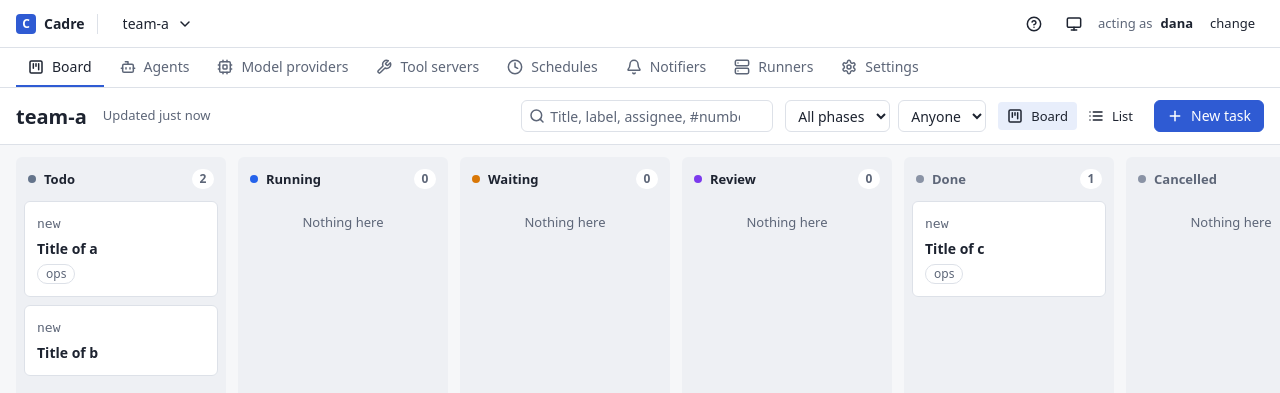
Test: Board › counts what the search shows of what is loaded, and clears it
The width and height of the screenshot is (1280, 393).
Expected: the link "Title of a" is shown, x1=37 y1=238 x2=98 y2=258
Expected: the text "shown" is not shown
In the search field named "Search the loaded page": (647, 116) x1=521 y1=100 x2=773 y2=132, type "ops"
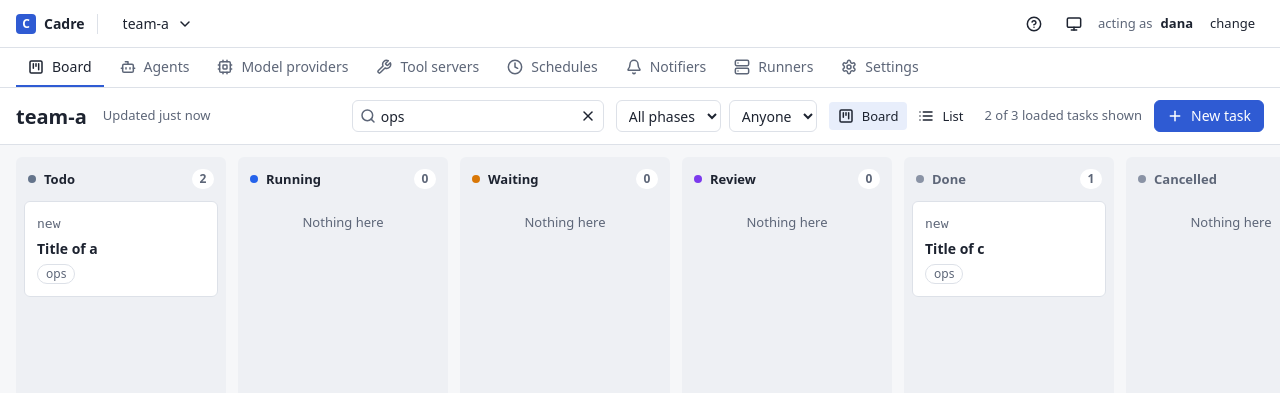
Now the text "2 of 3 loaded tasks shown" is shown, box x1=984 y1=106 x2=1142 y2=126
Now the link "Title of b" is gone
Click the button named "Clear the search": click(588, 116) x1=574 y1=102 x2=602 y2=130
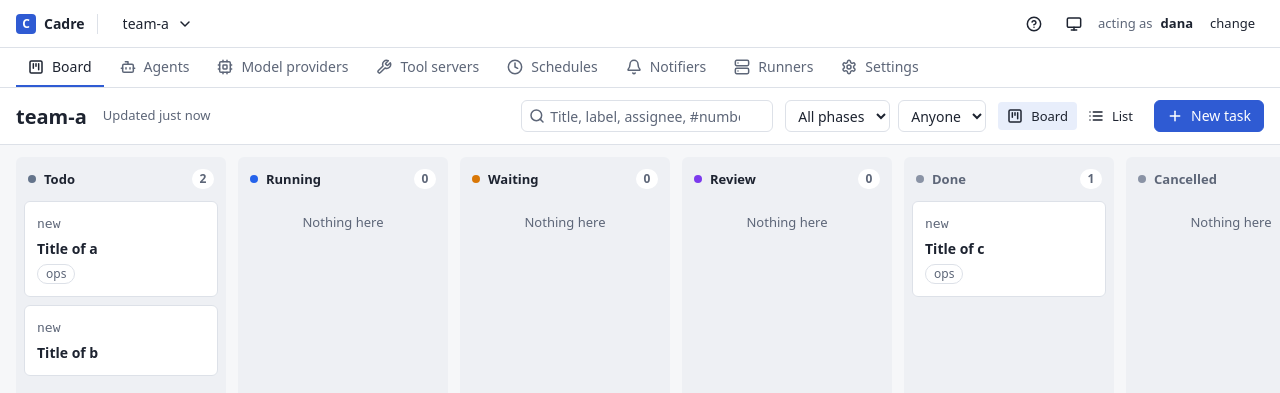
Now the text "shown" is gone
Now the link "Title of b" is shown, box x1=37 y1=343 x2=98 y2=362
